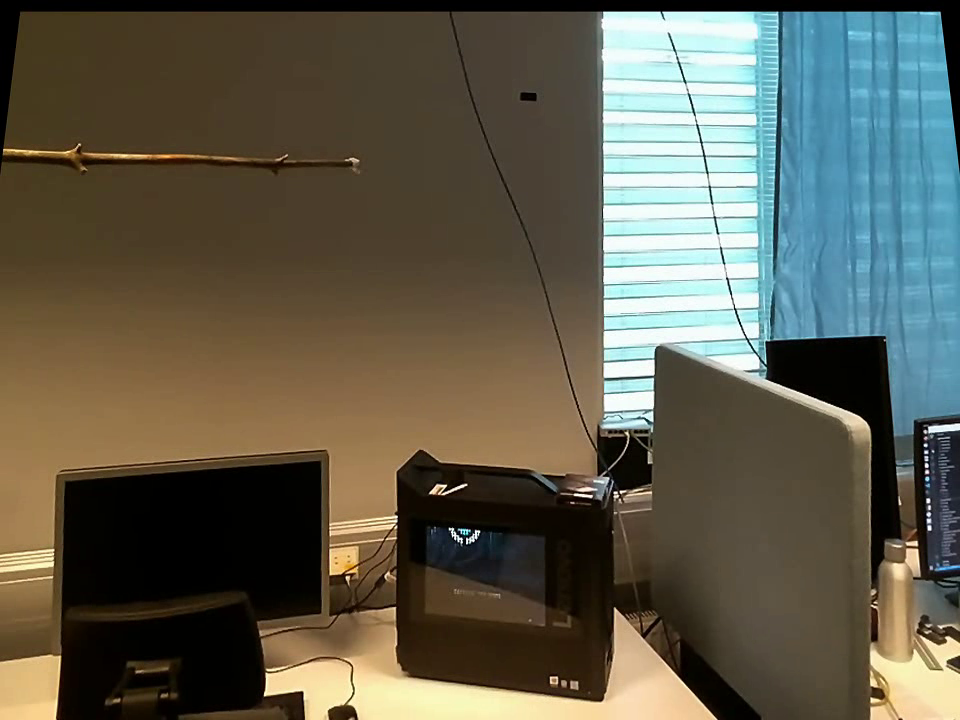branch: (6, 135, 344, 185)
